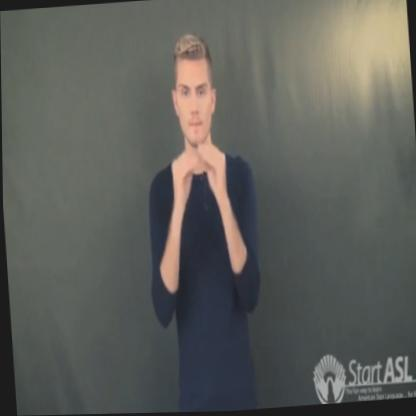Fix: (161, 132, 234, 227)
